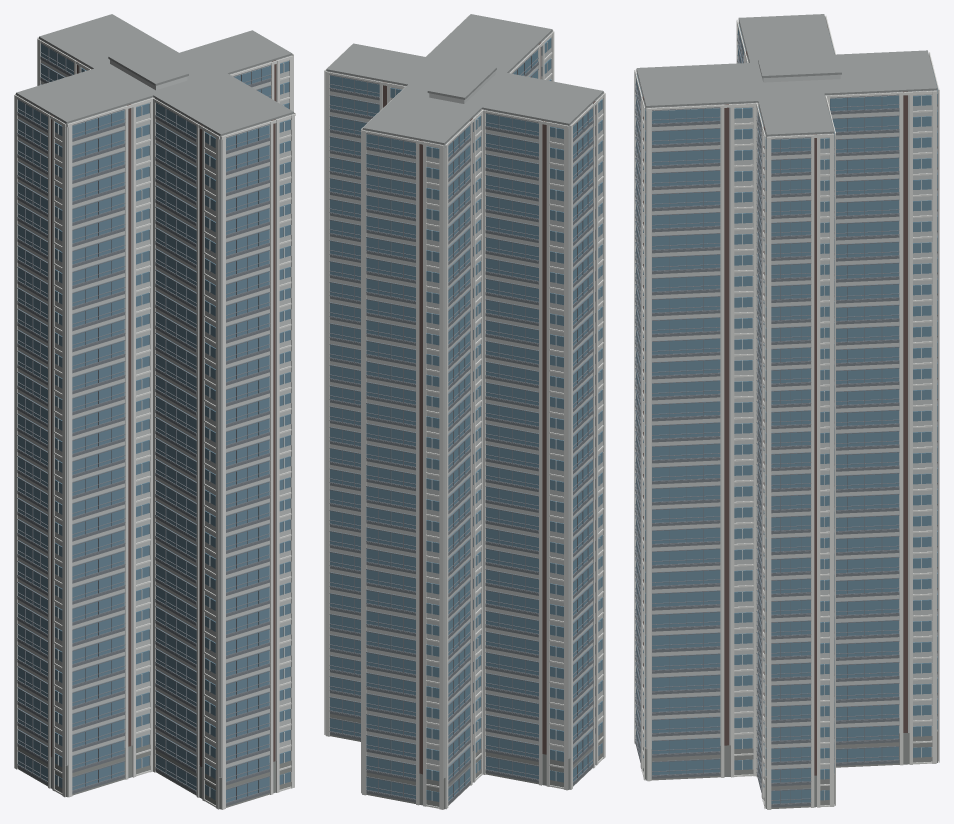
Rendered from bespoke-acro-riverview-104.glb.
3 renders of one model, left to right at view 1: azimuth 30°, elevation 25°; view 2: azimuth 150°, elevation 25°; view 3: azimuth 270°, elevation 25°, orthographic.
Visible parts, largest first — view 1: ARV104_editable_ARV104_blue_grey_horizontal_glazing, ARV104_editable_ARV104_broad_white_facade_frames, ARV104_editable_ARV104_dark_horizontal_spandrels_and_mullion, ARV104_editable_ARV104_light_grey_solid_wall, ARV104_editable_ARV104_modest_grey_flat_roof_caps, ARV104_editable_ARV104_recessed_brown_vertical_seams, ARV104_editable_ARV104_muted_ground_wall; view 2: ARV104_editable_ARV104_blue_grey_horizontal_glazing, ARV104_editable_ARV104_broad_white_facade_frames, ARV104_editable_ARV104_dark_horizontal_spandrels_and_mullion, ARV104_editable_ARV104_light_grey_solid_wall, ARV104_editable_ARV104_modest_grey_flat_roof_caps, ARV104_editable_ARV104_recessed_brown_vertical_seams, ARV104_editable_ARV104_muted_ground_wall; view 3: ARV104_editable_ARV104_blue_grey_horizontal_glazing, ARV104_editable_ARV104_dark_horizontal_spandrels_and_mullion, ARV104_editable_ARV104_broad_white_facade_frames, ARV104_editable_ARV104_light_grey_solid_wall, ARV104_editable_ARV104_modest_grey_flat_roof_caps, ARV104_editable_ARV104_recessed_brown_vertical_seams, ARV104_editable_ARV104_muted_ground_wall.
Part boxes in pixels (x1,y1,x2,y2): ARV104_editable_ARV104_blue_grey_horizontal_glazing: (17,44,290,802); ARV104_editable_ARV104_broad_white_facade_frames: (14,37,295,809); ARV104_editable_ARV104_dark_horizontal_spandrels_and_mullion: (17,42,271,806); ARV104_editable_ARV104_light_grey_solid_wall: (16,38,293,777); ARV104_editable_ARV104_modest_grey_flat_roof_caps: (16,14,293,135); ARV104_editable_ARV104_recessed_brown_vertical_seams: (50,60,276,766); ARV104_editable_ARV104_muted_ground_wall: (17,740,290,809); ARV104_editable_ARV104_blue_grey_horizontal_glazing: (330,38,602,801); ARV104_editable_ARV104_broad_white_facade_frames: (324,15,605,809); ARV104_editable_ARV104_dark_horizontal_spandrels_and_mullion: (329,48,593,804); ARV104_editable_ARV104_light_grey_solid_wall: (326,31,603,777); ARV104_editable_ARV104_modest_grey_flat_roof_caps: (326,14,603,144); ARV104_editable_ARV104_recessed_brown_vertical_seams: (383,42,595,774); ARV104_editable_ARV104_muted_ground_wall: (330,714,602,809); ARV104_editable_ARV104_blue_grey_horizontal_glazing: (636,24,937,803); ARV104_editable_ARV104_dark_horizontal_spandrels_and_mullion: (635,26,937,807); ARV104_editable_ARV104_broad_white_facade_frames: (634,15,939,809); ARV104_editable_ARV104_light_grey_solid_wall: (636,20,937,776); ARV104_editable_ARV104_modest_grey_flat_roof_caps: (636,14,937,136); ARV104_editable_ARV104_recessed_brown_vertical_seams: (642,26,931,775); ARV104_editable_ARV104_muted_ground_wall: (636,725,937,808).
Size of the model in its own units: 37.18 by 96.45 by 39.13.
